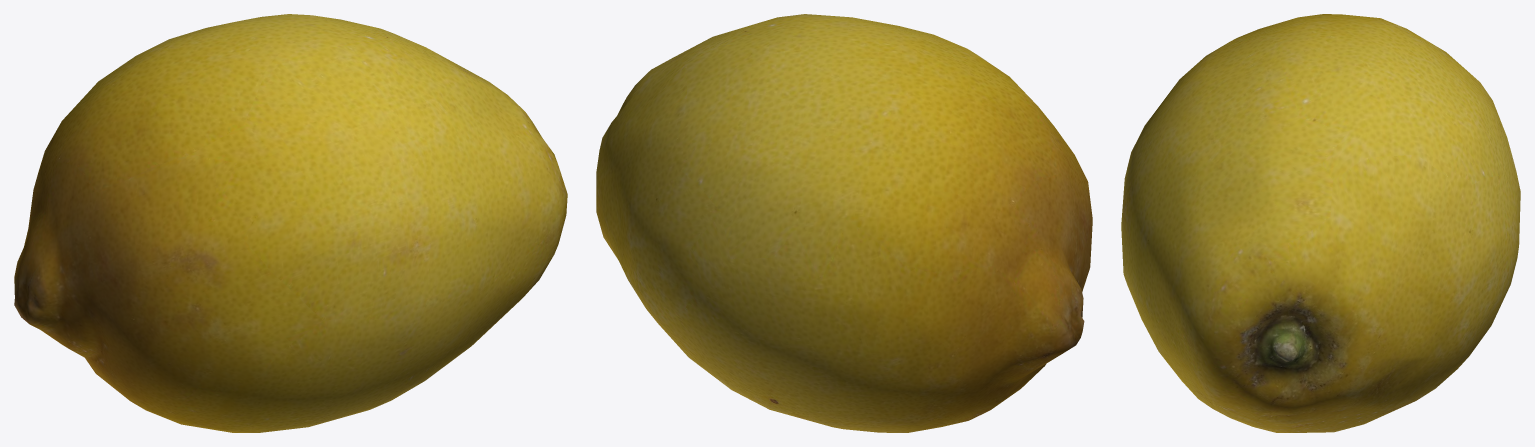
3 views of the same model, side by side, from view 1: azimuth 30°, elevation 25°; view 2: azimuth 150°, elevation 25°; view 3: azimuth 270°, elevation 25° (orthographic). The views are drawn at different scales.
Parts seen in each view (by area): view 1: 11_lemon; view 2: 11_lemon; view 3: 11_lemon.
Part boxes in pixels (<box>): 11_lemon: <box>14,14,567,432</box>; 11_lemon: <box>596,14,1092,432</box>; 11_lemon: <box>1121,14,1520,432</box>.
Size of the model in its own units: 1.01 by 0.7255 by 0.7229.
1 material, 1 textured.
